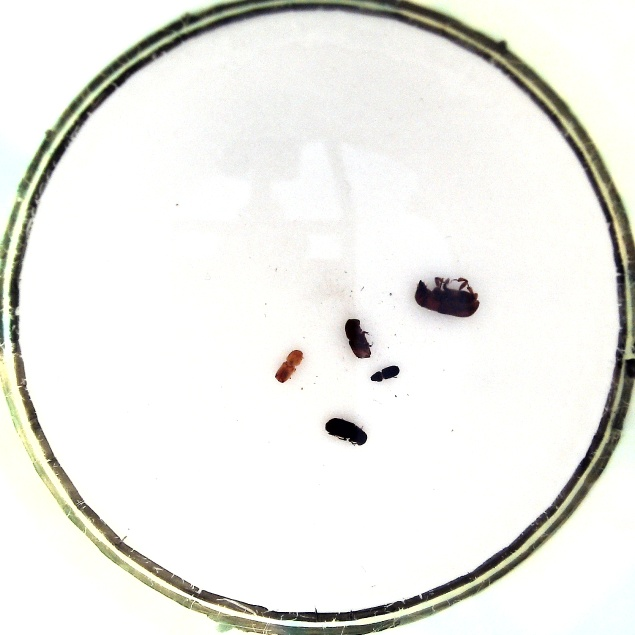acuminatus: (274, 348, 304, 383)
armandi: (323, 415, 368, 446)
coleoptera: (367, 363, 401, 385)
leconte: (414, 273, 481, 318)
linnaeus: (344, 315, 375, 360)
